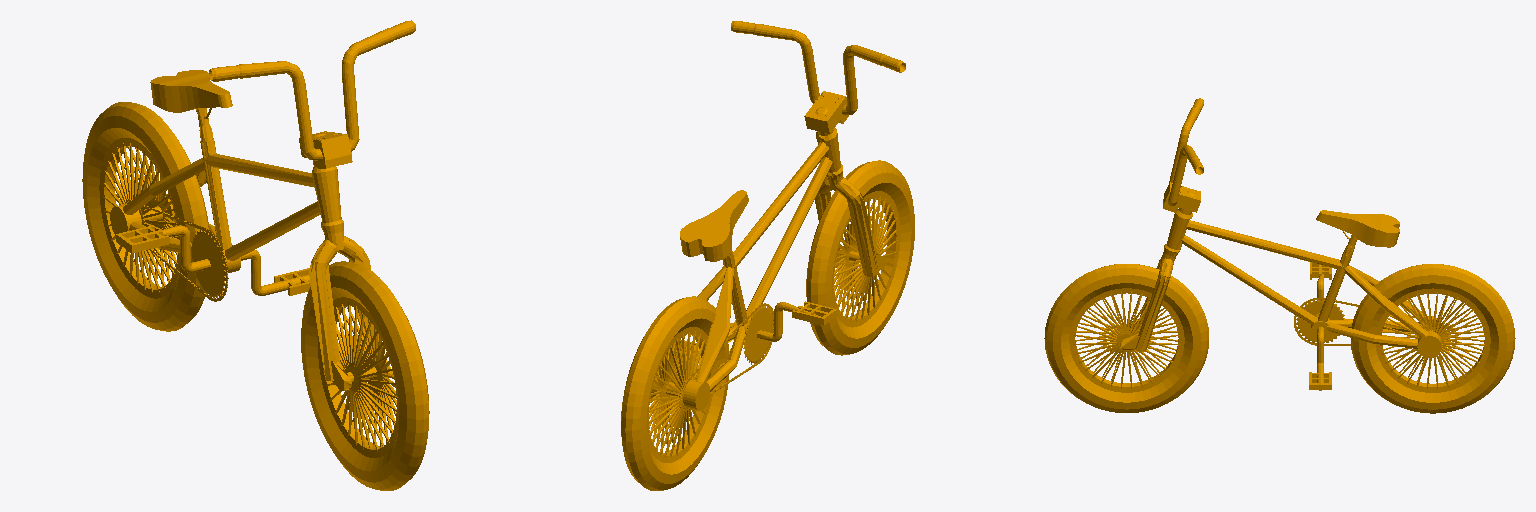
URDF robot description (none):
<robot name="none">
       <link name="none">
           <visual>
               <origin rpy="1.57 0 0" xyz="0 0 0" />
               <geometry>
                   <mesh filename="bike.obj" />
               </geometry>
           </visual>
          <collision>
              <geometry>
                  <box size="0.350139 0.657518 1.000000" />
              </geometry>
          </collision>

          <inertial>
            <mass value="0.0" />
            <inertia ixx="0.0" ixy="0.0" ixz="0.0" iyy="0.0" iyz="0.0" izz="0.0" />
          </inertial>
      </link>
  </robot>

--- Facts derived from the render (not from the file) ---
3 views of the same robot in one strip: view 1: azimuth 30°, elevation 25°; view 2: azimuth 150°, elevation 25°; view 3: azimuth 270°, elevation 25° (orthographic).
Robot: none — 1 links, 0 joints (none); root link none; default pose: all joints at 0.
Links seen in each view (by area): view 1: none; view 2: none; view 3: none.
Boxes of the visible links, left/top/right/bottom form: none: left=82, top=20, right=429, bottom=490; none: left=621, top=21, right=914, bottom=490; none: left=1044, top=98, right=1515, bottom=413.
Bounding box of the posed robot: 0.3501 × 1 × 0.6579 m (x, y, z).
1 mesh visuals loaded from 1 distinct referenced files (1 OBJ).